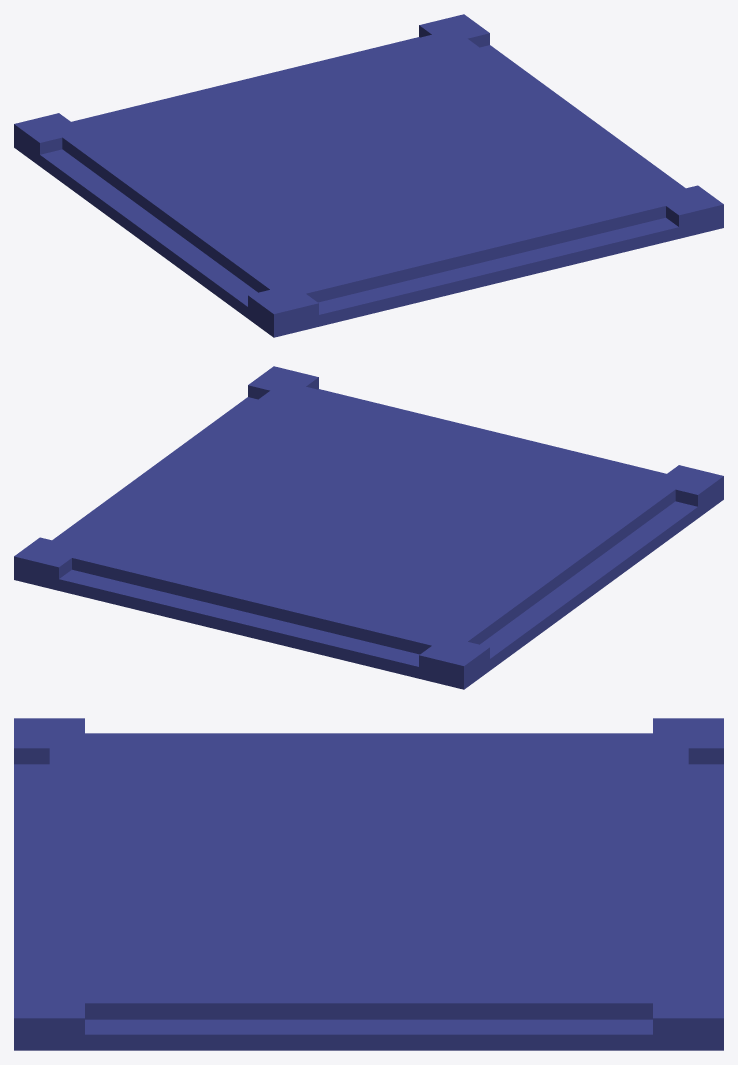
Rendered from LevelAssets-4.obj.
The picture shows the model from 3 angles, top to bottom: view 1: azimuth 30°, elevation 25°; view 2: azimuth 150°, elevation 25°; view 3: azimuth 270°, elevation 25°; orthographic projection. The views are drawn at different scales.
Size of the model in its own units: 4 by 0.2 by 4.
Materials: 1 (1 with a texture image).
